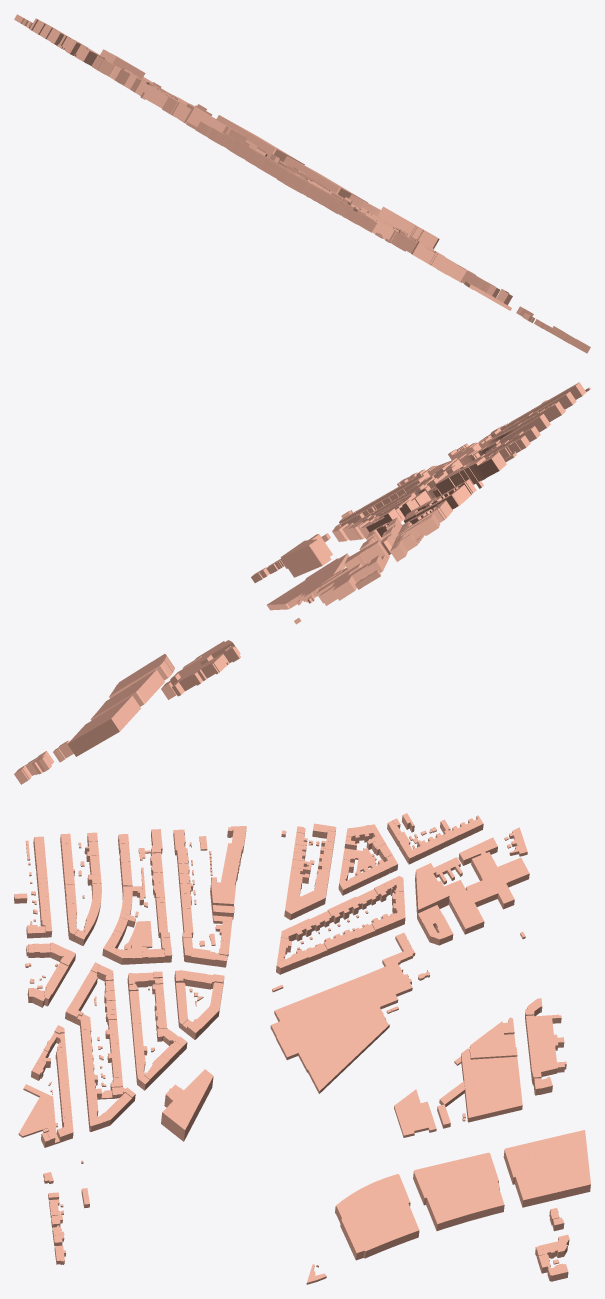
3 renders of one model, top to bottom at view 1: azimuth 30°, elevation 25°; view 2: azimuth 150°, elevation 25°; view 3: azimuth 270°, elevation 25°, orthographic. The views are drawn at different scales.
Bounding box in the file's own units: 495 × 388 × 674.
